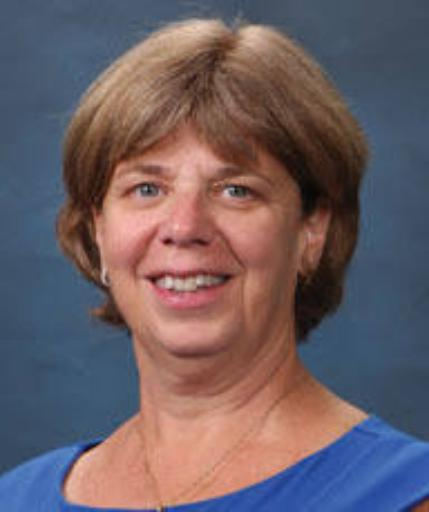left_eye: (215, 183, 266, 205)
left_lip_corner: (227, 272, 244, 287)
right_eye: (124, 181, 171, 202)
right_lip_corner: (141, 270, 158, 290)
